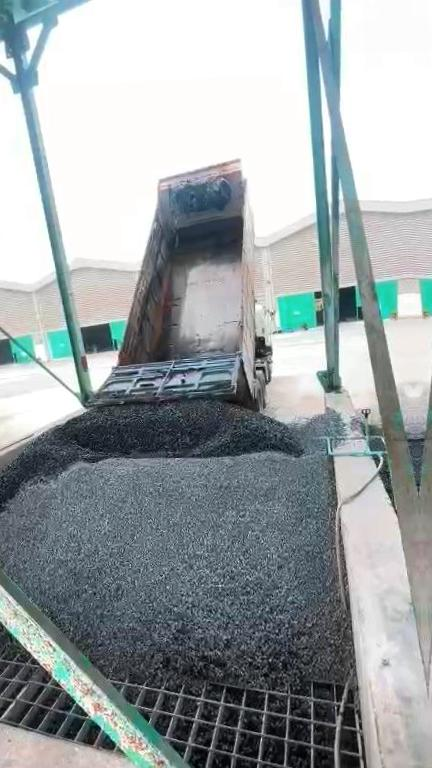gravel: (0, 401, 352, 686), (155, 278, 174, 359), (0, 593, 17, 650)
